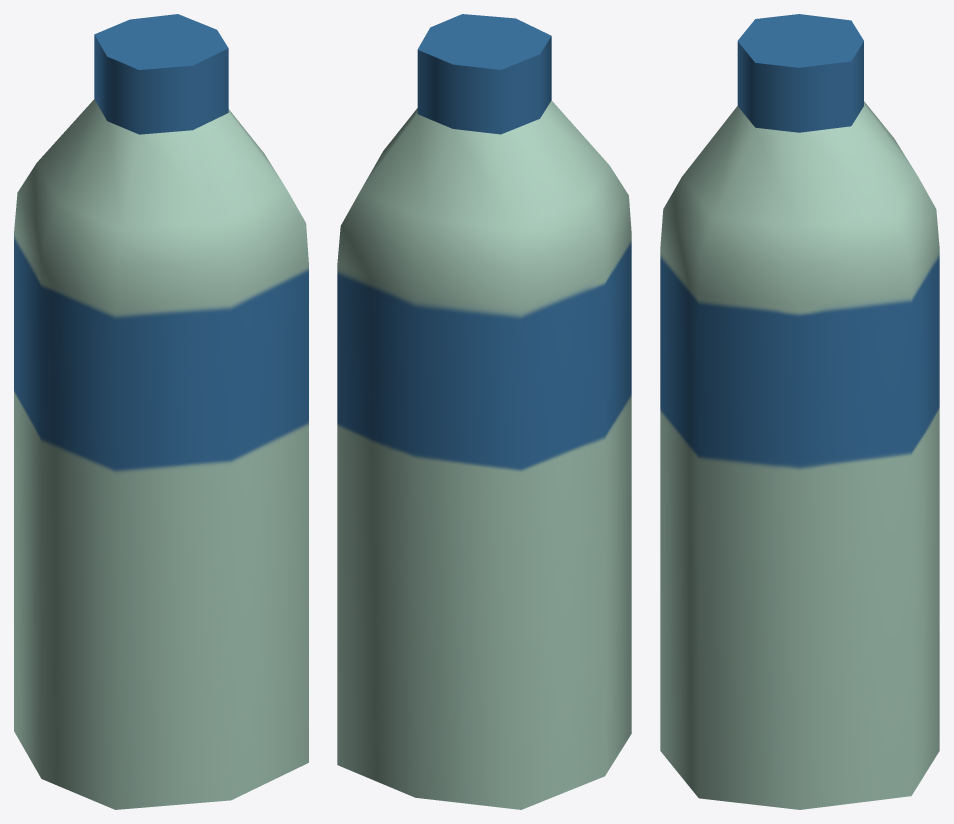
File: botol plastik (1).fbx
The picture shows the model from 3 angles, left to right: view 1: azimuth 30°, elevation 25°; view 2: azimuth 150°, elevation 25°; view 3: azimuth 270°, elevation 25°; orthographic projection.
Visible parts, largest first — view 1: bottle; view 2: bottle; view 3: bottle.
Part boxes in pixels (x1,y1,x2,y2): bottle: (14,14,308,809); bottle: (337,14,631,809); bottle: (660,14,939,809).
Size of the model in its own units: 0.142 by 0.3985 by 0.142.
Materials: 1 (1 with a texture image).
